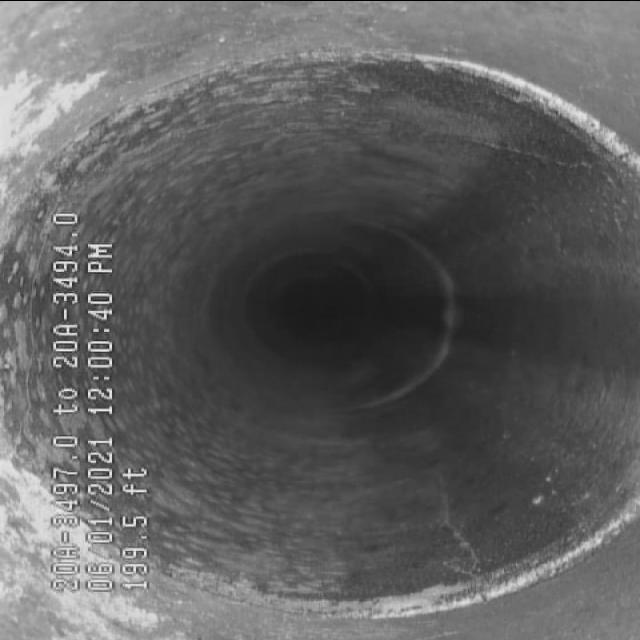Crack: (414, 464, 508, 580)
